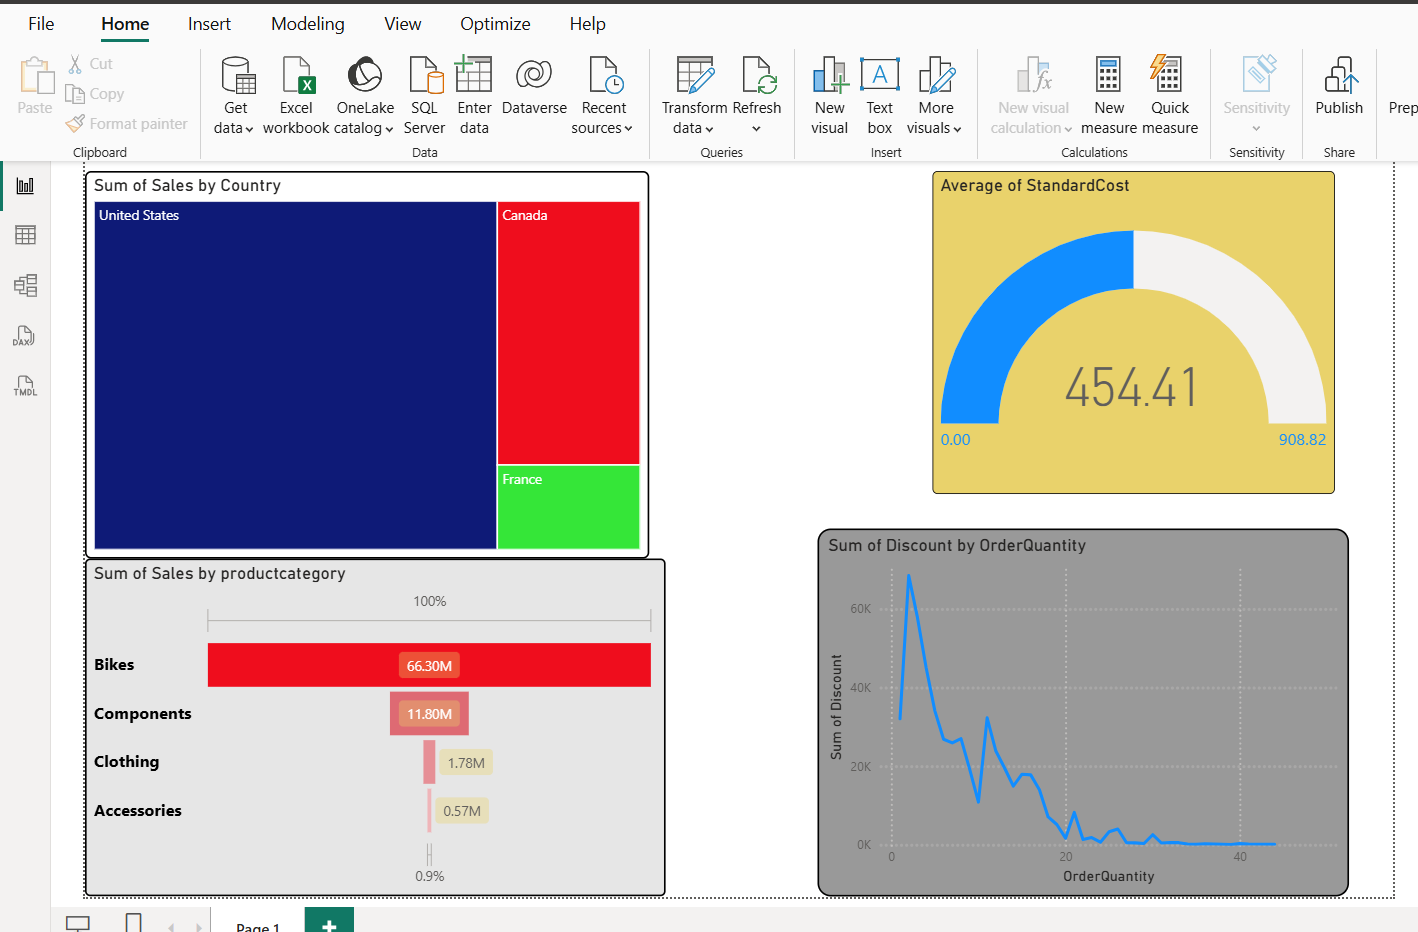

Layout of this report page (visuals, bound fields, positions):
{"tool":"powerbi","page":{"name":"Page 1","canvas":[1280,720],"ordinal":0},"visuals":[{"type":"treemap","fields":{"Group":["Sheet1.Country"],"Values":["Sum(Sheet1.Sales)"]},"box":[0,9.8,552.3,379.4],"z":0},{"type":"gauge","fields":{"Y":["Avg(Sheet1.StandardCost)"]},"box":[829.2,9.8,393.5,316.2],"z":1},{"type":"funnel","fields":{"Category":["Sheet1.productcategory"],"Y":["Sum(Sheet1.Sales)"]},"box":[0,389.3,567.8,330.3],"z":2},{"type":"lineChart","fields":{"Category":["Sheet1.OrderQuantity"],"Y":["Sum(Sheet1.Discount)"]},"box":[716.7,359.8,520,359.8],"z":3}]}

Visuals, with their boxes on the page's 1280x720 design canvas (x1, y1, x2, y2). These are canvas units, not pixel positions in the 1418x932 screenshot, which may show the page scaled, cropped or inside an application window:
treemap - Sheet1.Country x Sum(Sheet1.Sales): left=0, top=10, right=552, bottom=389
gauge - Avg(Sheet1.StandardCost): left=829, top=10, right=1223, bottom=326
funnel - Sheet1.productcategory x Sum(Sheet1.Sales): left=0, top=389, right=568, bottom=720
lineChart - Sheet1.OrderQuantity x Sum(Sheet1.Discount): left=717, top=360, right=1237, bottom=720
